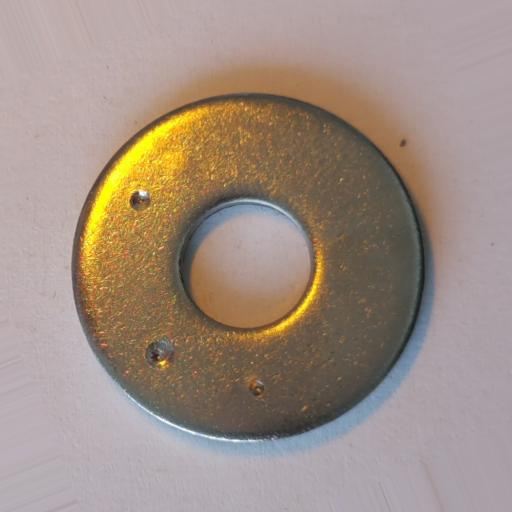circular_cavity: (144, 338, 175, 368), (129, 189, 151, 209), (249, 380, 266, 397)
